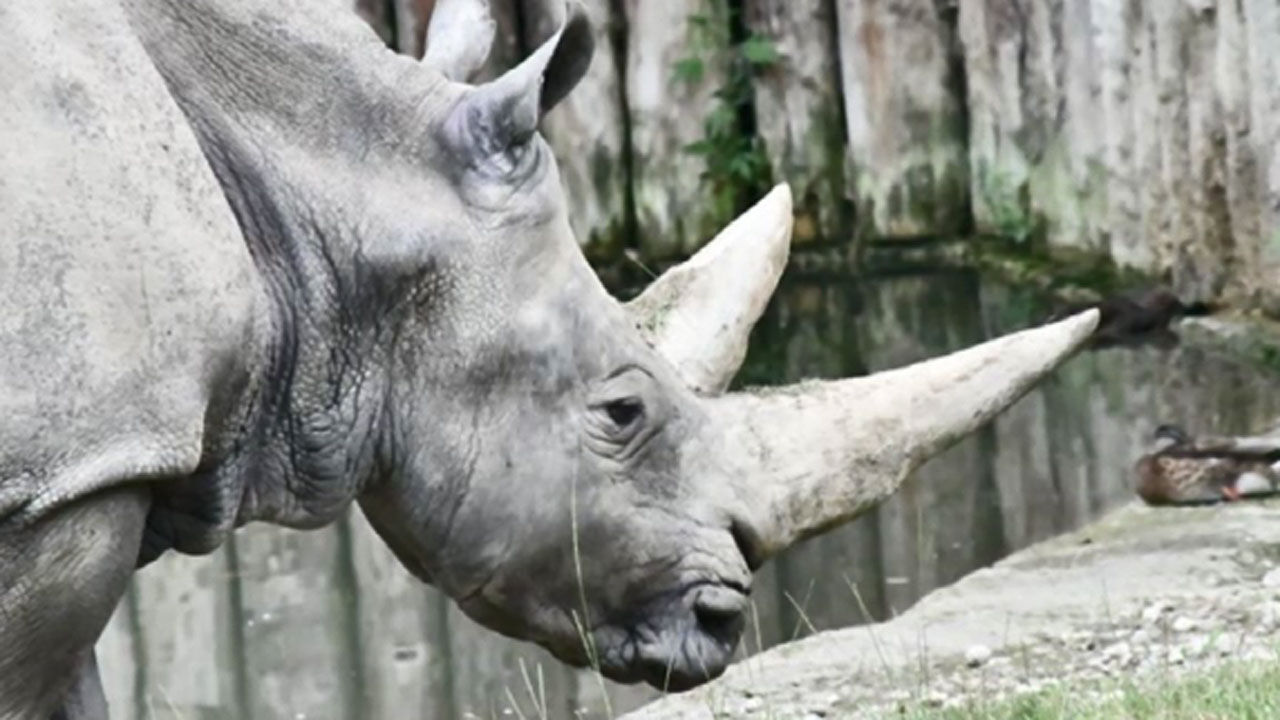Rhinoceros: (5, 2, 1158, 694)
